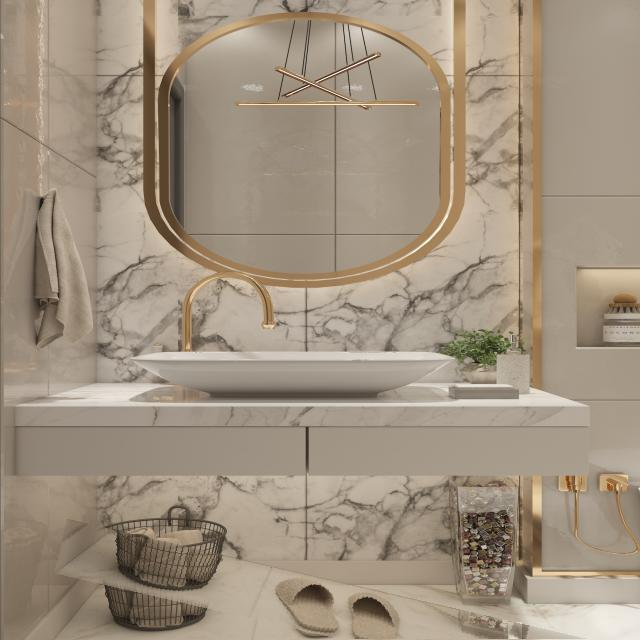floor: (55, 530, 500, 640), (509, 623, 522, 640)
